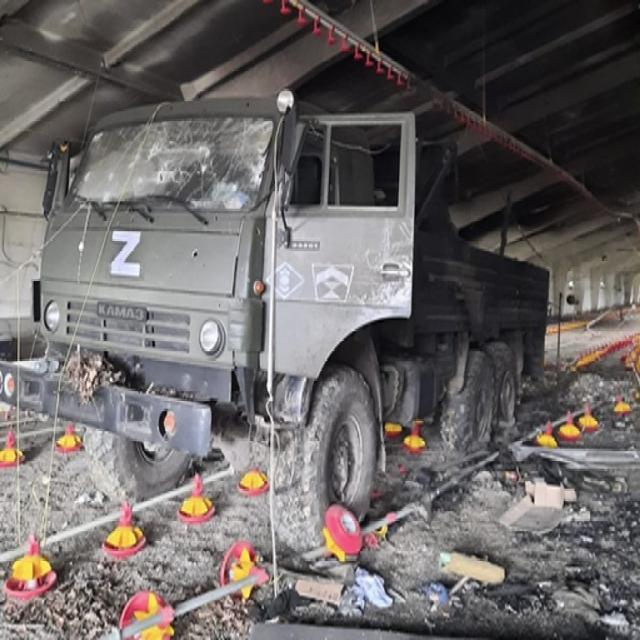TRUCK: (26, 82, 548, 534)
